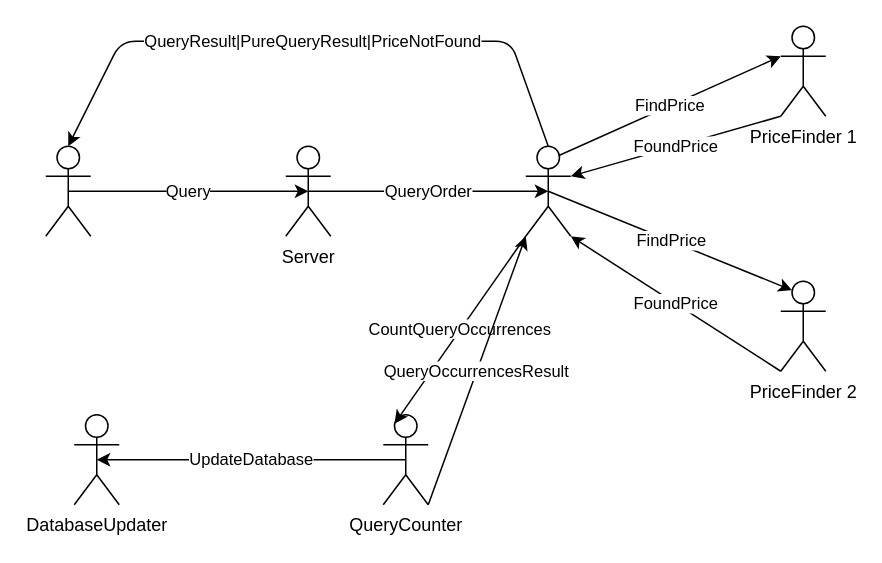
Image size: 882x563. Some labels were removed from this diagram. Here are the shapes that lost their labels. From the top down, the box of each, then its label:
(44, 145, 91, 236): Client
(524, 145, 571, 236): Worker
